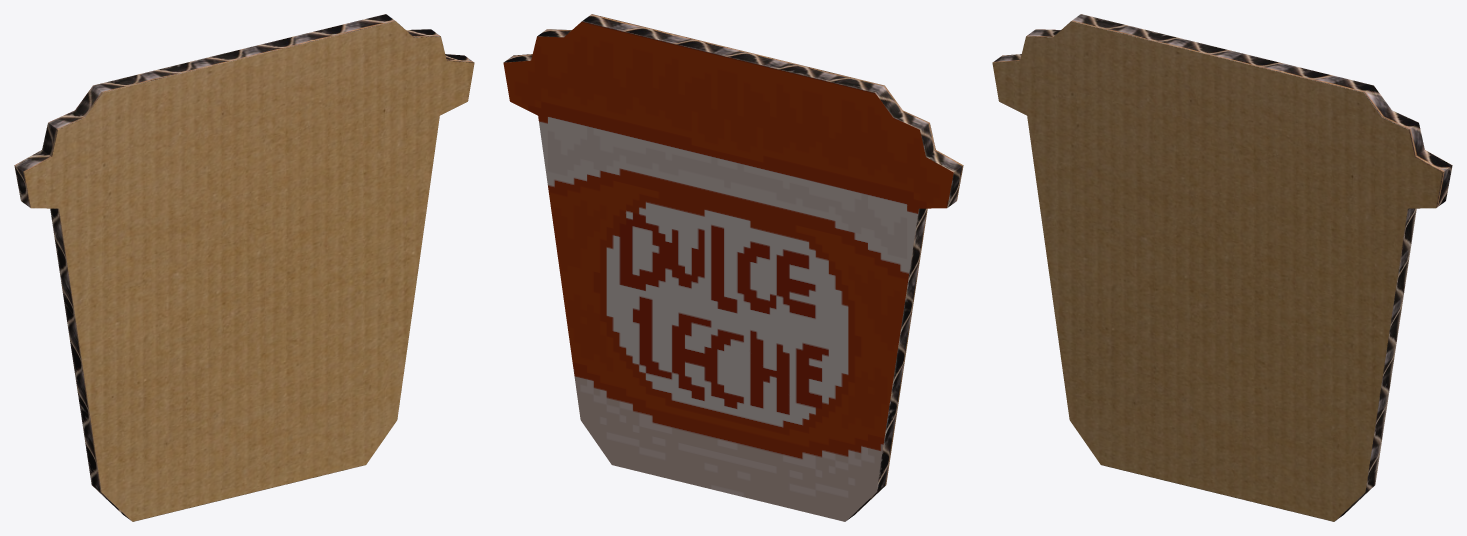
The model's file is DDL.glb.
3 views of the same model, side by side, from view 1: azimuth 30°, elevation 25°; view 2: azimuth 150°, elevation 25°; view 3: azimuth 330°, elevation 25° (orthographic).
Visible parts, largest first — view 1: DULCE; view 2: DULCE; view 3: DULCE.
Boxes of the visible parts, <box> form: DULCE: <box>14,14,474,521</box>; DULCE: <box>503,14,963,521</box>; DULCE: <box>992,14,1452,521</box>.
Bounding box in the file's own units: 2.75 × 2.55 × 0.1053.
Materials: 1 (1 with a texture image).
